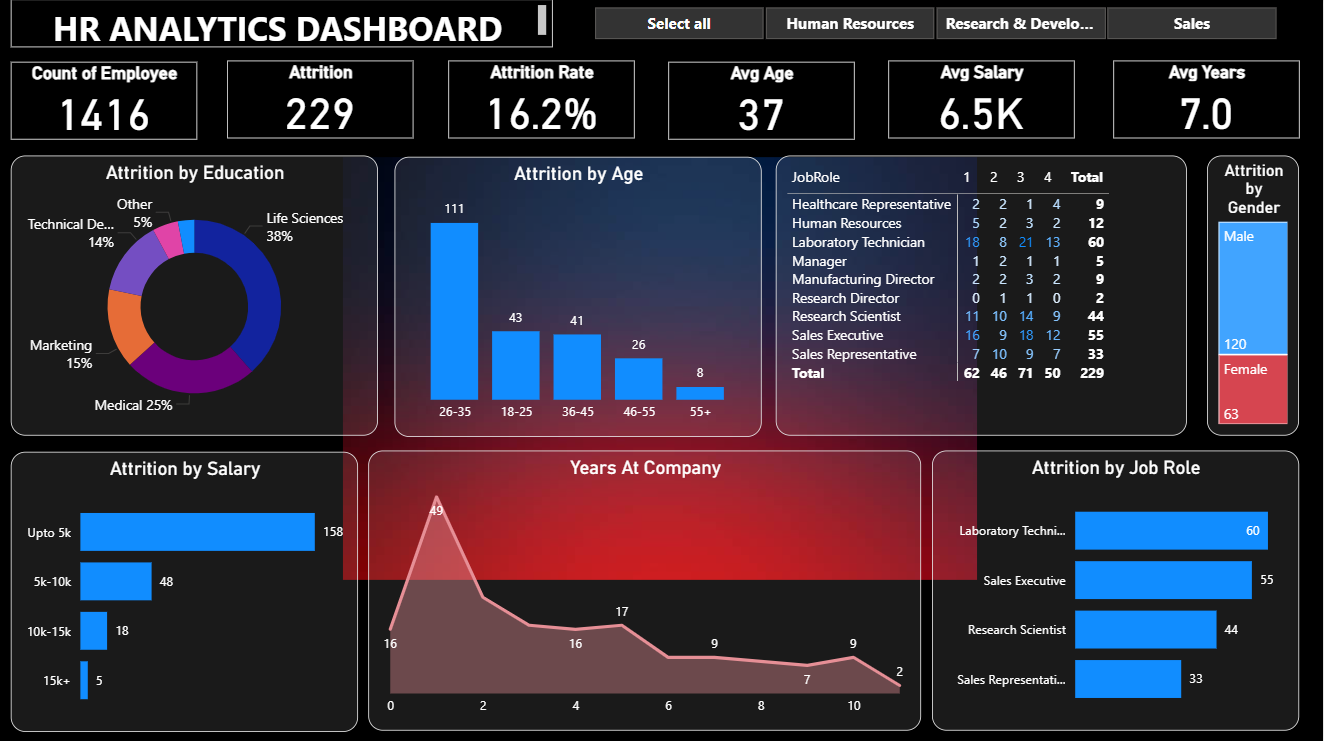

This screenshot's page, from the dashboard's own definition file:
{"tool":"powerbi","page":{"name":"Page 1","canvas":[1280,720],"ordinal":0},"visuals":[{"type":"card","title":"Count of Employee","fields":{"Values":["CountNonNull(Sheet1.EmpID)"]},"box":[13.7,61.7,179.8,75.5],"z":0},{"type":"card","title":"Attrition ","fields":{"Values":["Sum(Sheet1.Attrition_Count)"]},"box":[222.3,60.4,179.8,75.5],"z":1000},{"type":"card","title":"Attrition Rate","fields":{"Values":["Sheet1.Attrition_Rate"]},"box":[435,60.4,179.8,75.5],"z":2000},{"type":"card","title":"Avg Age","fields":{"Values":["Avg(Sheet1.Age)"]},"box":[647.7,61.7,179.8,75.5],"z":3000},{"type":"card","title":"Avg Salary","fields":{"Values":["Avg(Sheet1.MonthlyIncome)"]},"box":[860.4,60.4,179.8,75.5],"z":4000},{"type":"card","title":"Avg Years","fields":{"Values":["Avg(Sheet1.YearsAtCompany)"]},"box":[1077.2,60.4,179.8,75.5],"z":5000},{"type":"donutChart","title":"Attrition by Education","fields":{"Category":["Sheet1.EducationField"],"Y":["Sum(Sheet1.Attrition_Count)"]},"box":[13.7,152.3,354,270.3],"z":6000},{"type":"columnChart","title":"Attrition by Age","fields":{"Category":["Sheet1.AgeGroup"],"Y":["Sum(Sheet1.Attrition_Count)"]},"box":[384.2,153.7,354,270.3],"z":7000},{"type":"pivotTable","fields":{"Rows":["Sheet1.JobRole"],"Columns":["Sheet1.JobSatisfaction"],"Values":["Sum(Sheet1.Attrition_Count)"]},"box":[752,152.3,396.6,270.3],"z":8000},{"type":"barChart","title":"Attrition by Salary","fields":{"Category":["Sheet1.SalarySlab"],"Y":["Sum(Sheet1.Attrition_Count)"]},"box":[13.7,437.7,334.8,270.3],"z":8001},{"type":"clusteredBarChart","title":"Attrition by Job Role","fields":{"Y":["Sum(Sheet1.Attrition_Count)"],"Category":["Sheet1.JobRole"]},"box":[902.9,436.4,354,270.3],"z":8002},{"type":"areaChart","title":"Years At Company","fields":{"Category":["Sheet1.YearsAtCompany"],"Y":["Sum(Sheet1.Attrition_Count)"]},"box":[358.1,436.4,533.8,270.3],"z":8003},{"type":"treemap","title":"Attrition by Gender","fields":{"Group":["Sheet1.Gender"],"Values":["Sum(Sheet1.Attrition_Count)"]},"box":[1167.8,152.3,89.2,270.3],"z":8004},{"type":"slicer","fields":{"Values":["Sheet1.Department"]},"box":[550.3,1.4,709.4,46.7],"z":8005},{"type":"textbox","box":[13.7,1.4,522.8,46.7],"z":8006}]}

Visuals, with their boxes in screenshot pixels (x1, y1, x2, y2), scaled from the page's 1280x720 canvas onto the 1324x741 screenshot:
"Count of Employee" card: 14,63,200,141
"Attrition " card: 230,62,416,140
"Attrition Rate" card: 450,62,636,140
"Avg Age" card: 670,63,856,141
"Avg Salary" card: 890,62,1076,140
"Avg Years" card: 1114,62,1300,140
"Attrition by Education" donutChart: 14,157,380,435
"Attrition by Age" columnChart: 397,158,764,436
pivotTable - Sheet1.JobRole x Sheet1.JobSatisfaction: 778,157,1188,435
"Attrition by Salary" barChart: 14,450,360,729
"Attrition by Job Role" clusteredBarChart: 934,449,1300,727
"Years At Company" areaChart: 370,449,923,727
"Attrition by Gender" treemap: 1208,157,1300,435
slicer - Sheet1.Department: 569,1,1303,50
textbox: 14,1,555,50
